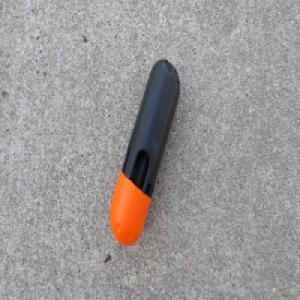PlasticPart: (108, 58, 181, 247)
